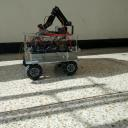cart: (22, 32, 81, 81)
